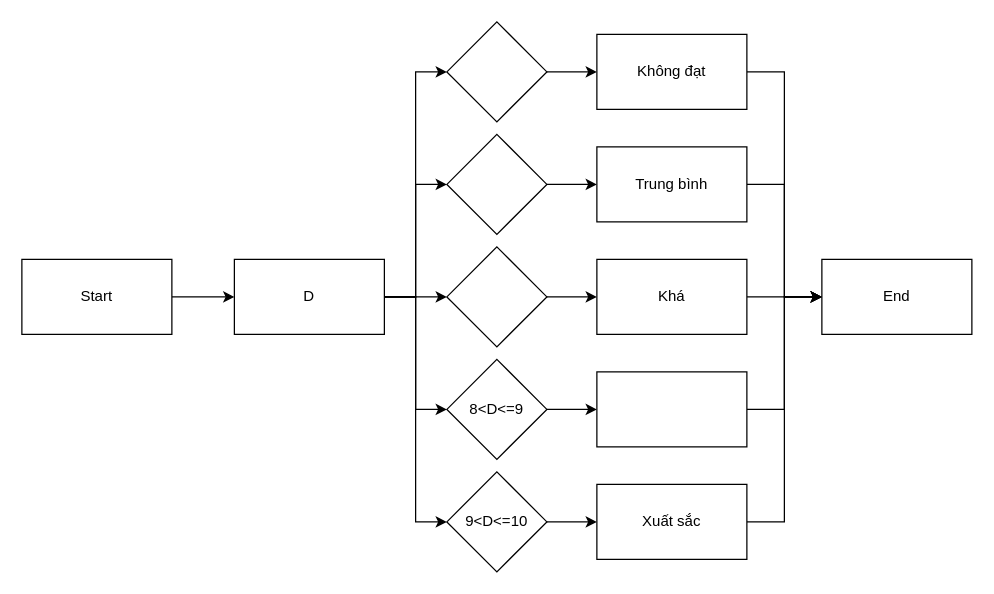
This 994x594 diagram has some shape labels left out. The shapes that lost their labels are listed below. From the top down, each one's centre as x and y in pixels, then its label:
At (x=496, y=71): "D<4".
At (x=496, y=183): "4<=D<=6".
At (x=496, y=296): "6<D<=8".
At (x=671, y=409): "Giỏi".
